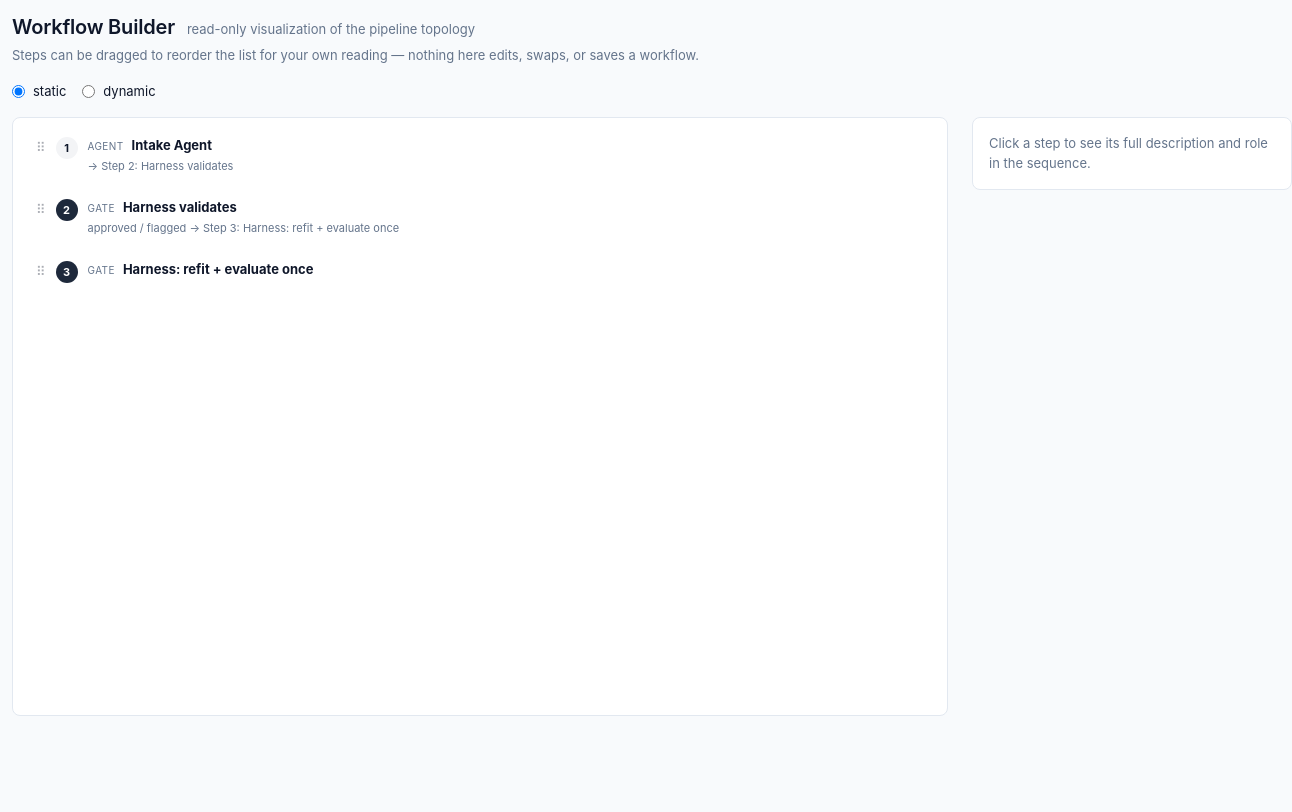
Test: BuilderPage › renders the static topology as a numbered list and shows a step description + transition on click
Expected: the text "Intake Agent" is shown, [132,136,212,156]
Expected: the text "Harness: refit + evaluate once" is shown, [123,260,313,280]
Step 1. Click the text "Harness validates" → [180, 208], box [123,198,237,218]
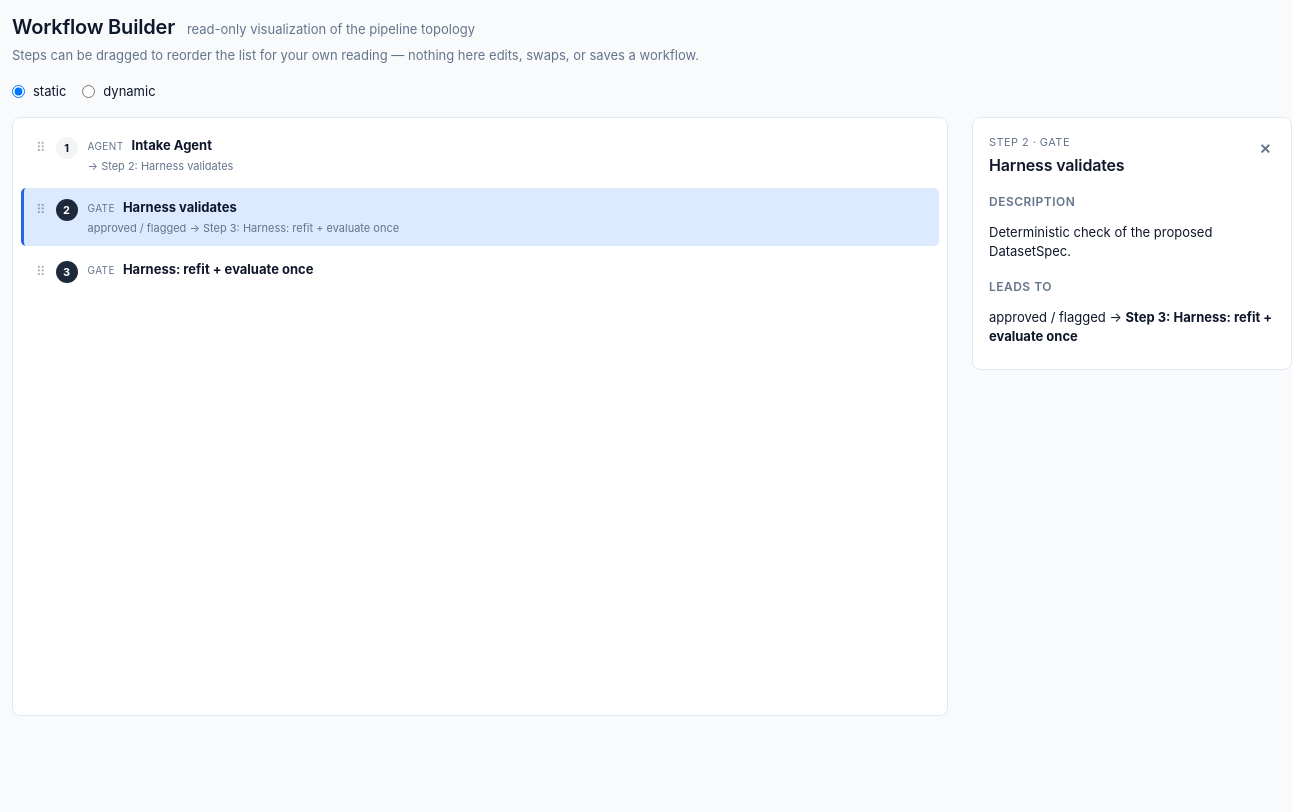
Result: the text "Deterministic check of the proposed DatasetSpec." is shown at [989,224,1212,259]
Result: the text "approved / flagged → Step 3: Harness: refit + evaluate once" is shown at [989,308,1275,346]
Result: the text "Step 3: Harness: refit + evaluate once" is shown at [989,308,1272,344]
